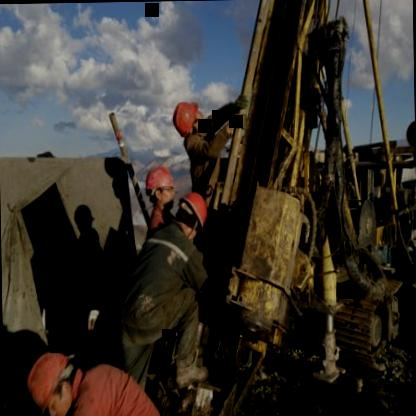helmet: (19, 338, 91, 416), (172, 190, 212, 242), (142, 164, 176, 210), (172, 100, 204, 143)
